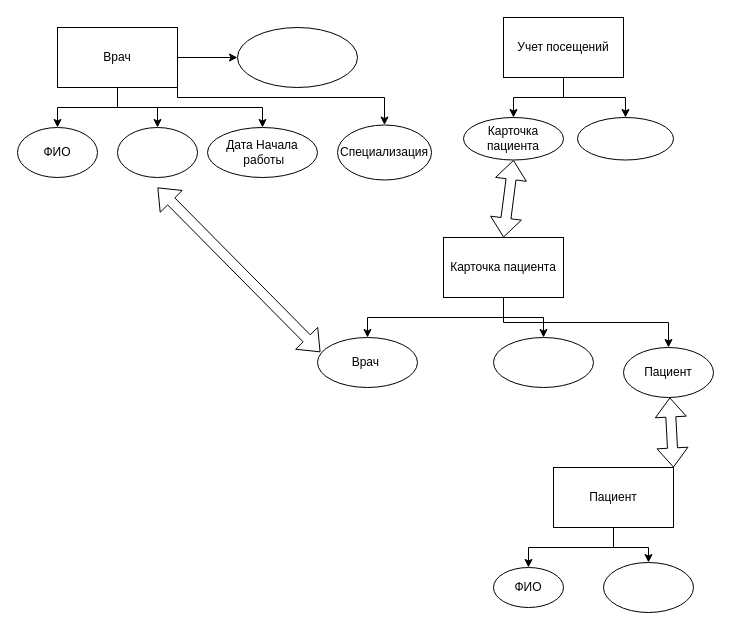
The diagram is 731 pixels wide and 630 high, and some of its shapes have lost their labels. The shapes that lost their labels are listed below. From the top down, each one's box as (x1, y1, x2, y2) in pixels, then its label:
(236, 26, 358, 88): Кабинет
(116, 126, 198, 178): Паспорт
(576, 116, 674, 160): Время посещения
(492, 336, 594, 388): Диагноз
(602, 562, 694, 612): № полиса
